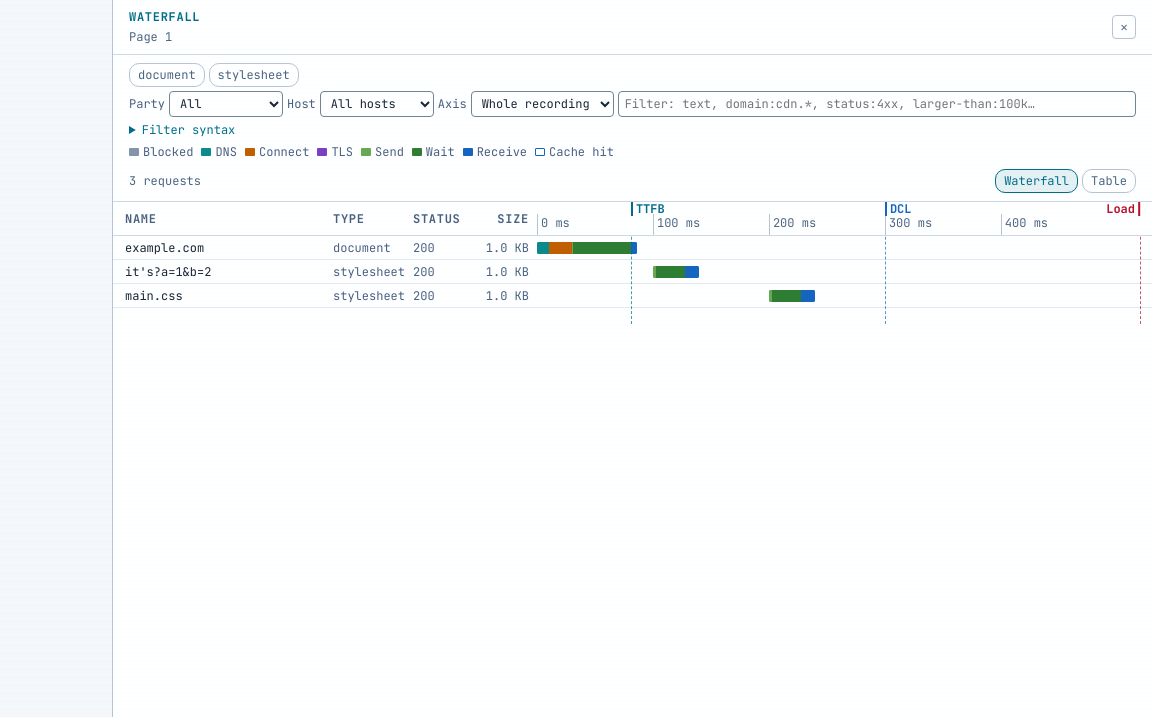
WaterfallPanel: copying a request › copies a cURL command made of the method and the shell-quoted URL
Click the button "it's?a=1&b=2 stylesheet 200 1.0 KB".
click(168, 272)  # box left=113, top=260, right=1151, bottom=284
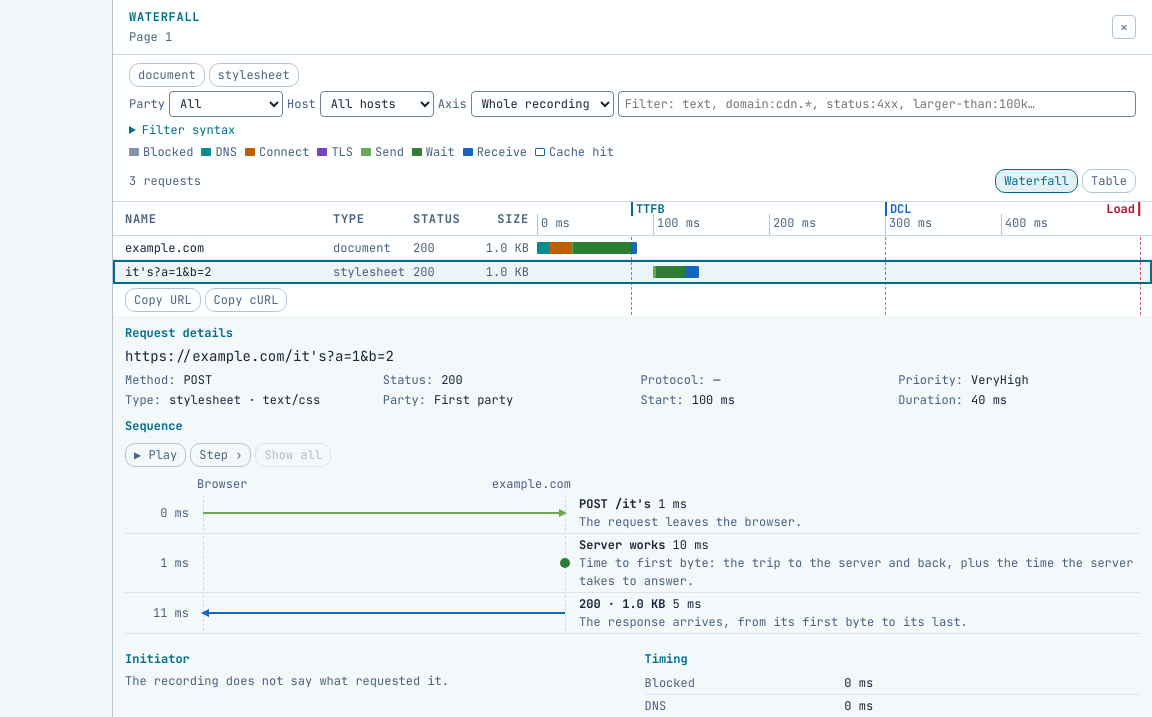
Click the button "Copy cURL".
click(246, 300)  # box left=205, top=288, right=287, bottom=312
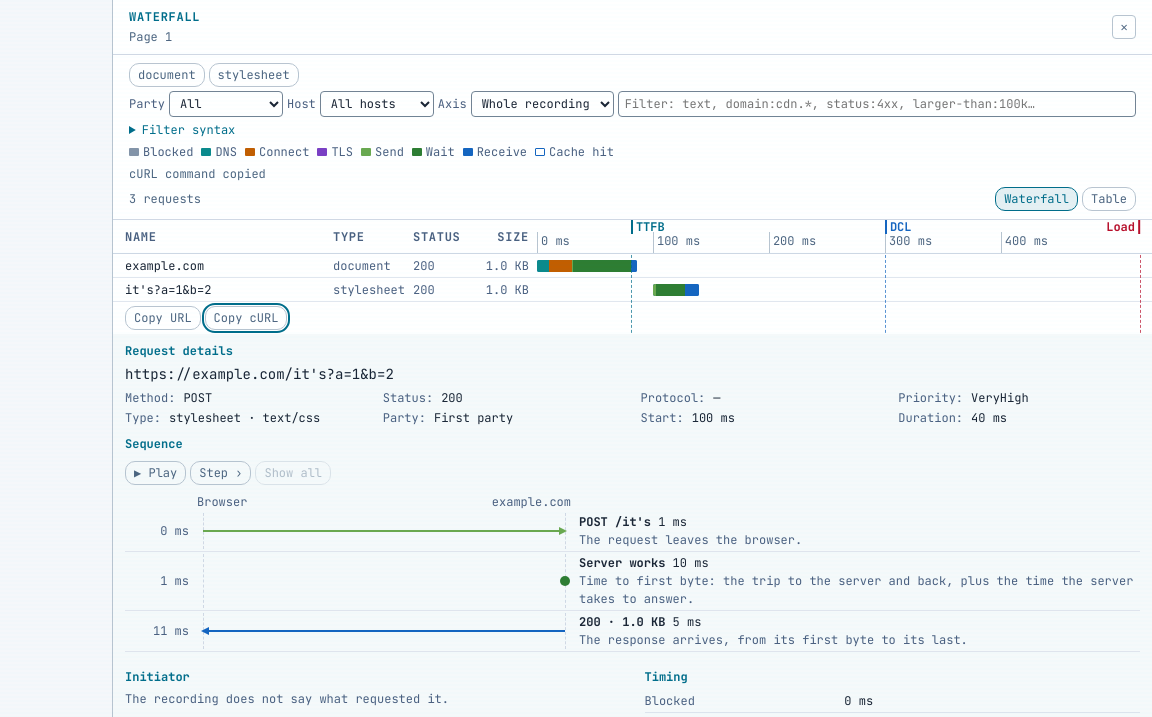
expect the text "cURL command copied" is shown: met, box left=129, top=166, right=266, bottom=182
